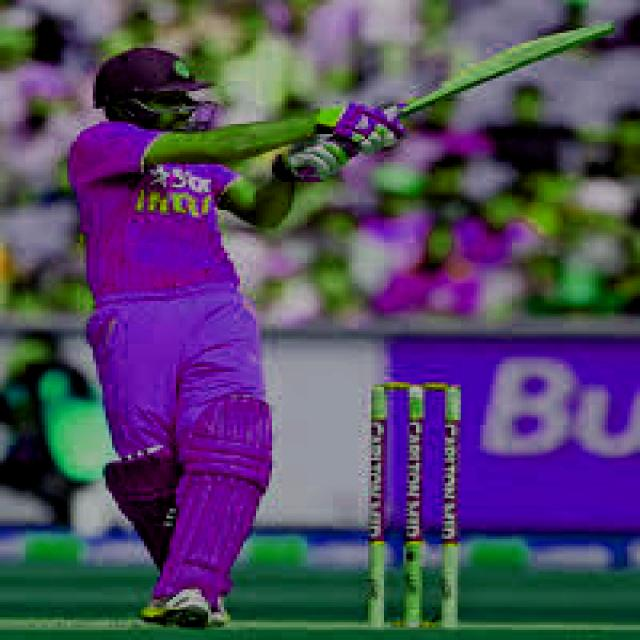toe: (582, 12, 616, 44)
